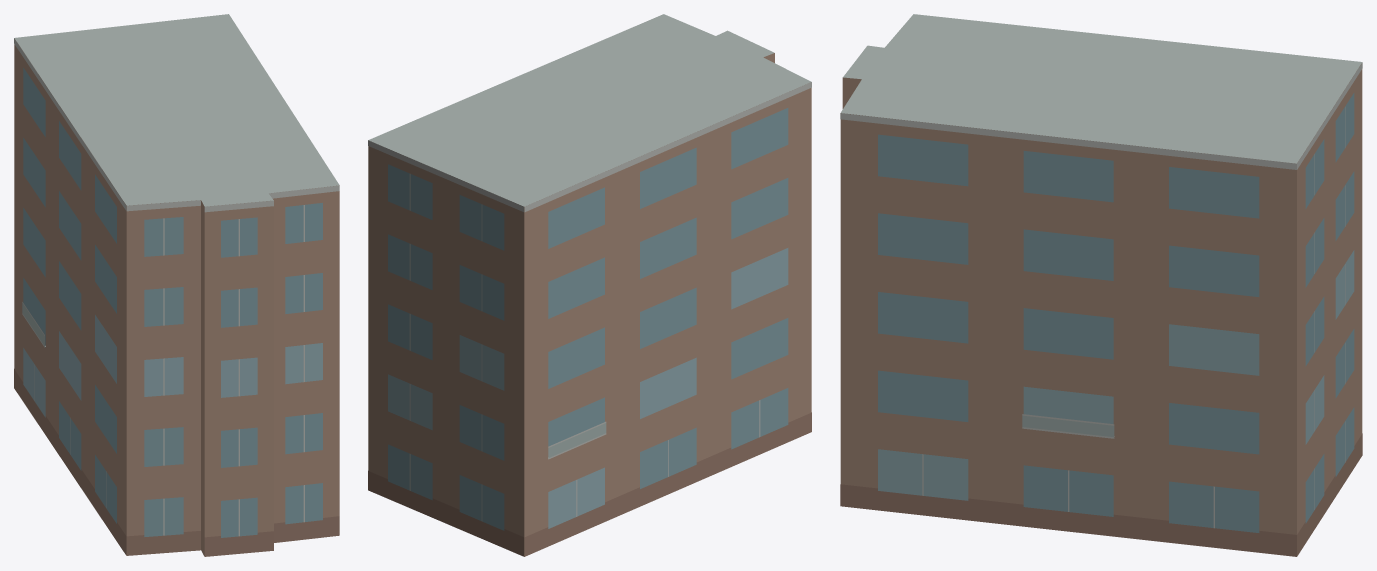
The model's file is survey-upis-32878605.glb.
The picture shows the model from 3 angles, left to right: view 1: azimuth 30°, elevation 25°; view 2: azimuth 150°, elevation 25°; view 3: azimuth 270°, elevation 25°; orthographic projection. The views are drawn at different scales.
Visible parts, largest first — view 1: survey-upis-32878605.tmp; view 2: survey-upis-32878605.tmp; view 3: survey-upis-32878605.tmp.
Part boxes in pixels (left/top/right/bottom): survey-upis-32878605.tmp: left=14, top=14, right=339, bottom=556; survey-upis-32878605.tmp: left=368, top=14, right=811, bottom=556; survey-upis-32878605.tmp: left=840, top=14, right=1362, bottom=556.
Bounding box in the file's own units: 12.25 × 15 × 18.06.
